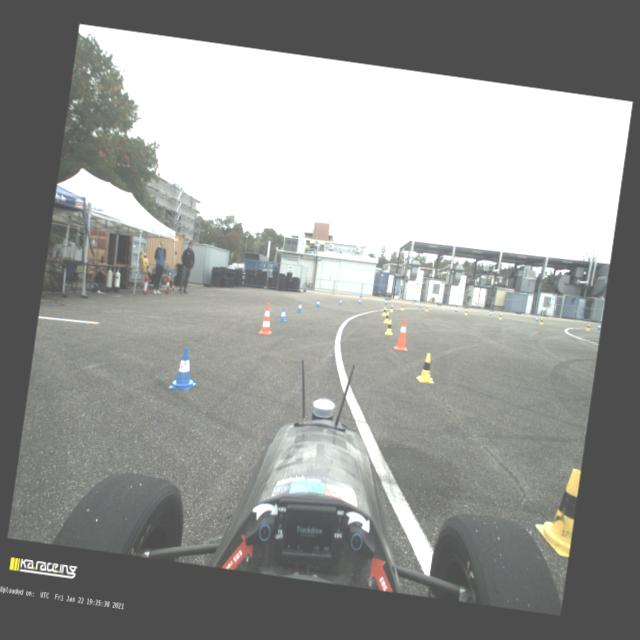blue_cone: (168, 346, 202, 392), (278, 308, 288, 322), (296, 302, 304, 312), (316, 300, 321, 308), (338, 298, 343, 306), (384, 299, 388, 306), (598, 324, 602, 331), (358, 298, 362, 304), (536, 316, 540, 322), (455, 306, 458, 312), (489, 310, 492, 316), (419, 304, 422, 308)
large_orange_cone: (258, 302, 276, 336), (394, 318, 412, 351)
yellow_cone: (532, 465, 581, 555), (417, 352, 438, 383), (385, 320, 394, 335), (383, 312, 390, 324), (382, 306, 388, 317), (586, 324, 592, 332), (400, 303, 405, 311), (539, 318, 544, 326), (390, 304, 394, 312), (425, 306, 429, 312), (464, 310, 468, 316), (498, 314, 502, 320)
